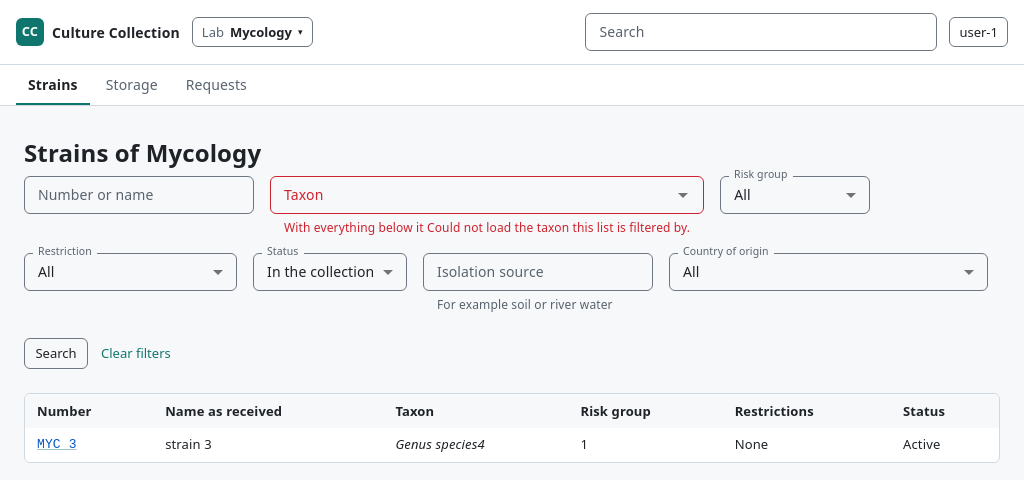
Test: the strains page › says when the taxa could not be searched, and when the taxon of the filter could not be loaded
Check: the text "Could not load the taxon this list is filtered by" is shown, box [284,218,690,236]
Step 1. Type "Tes" into the dropdown labelled "Taxon" → (471, 195), box [276,182,665,208]
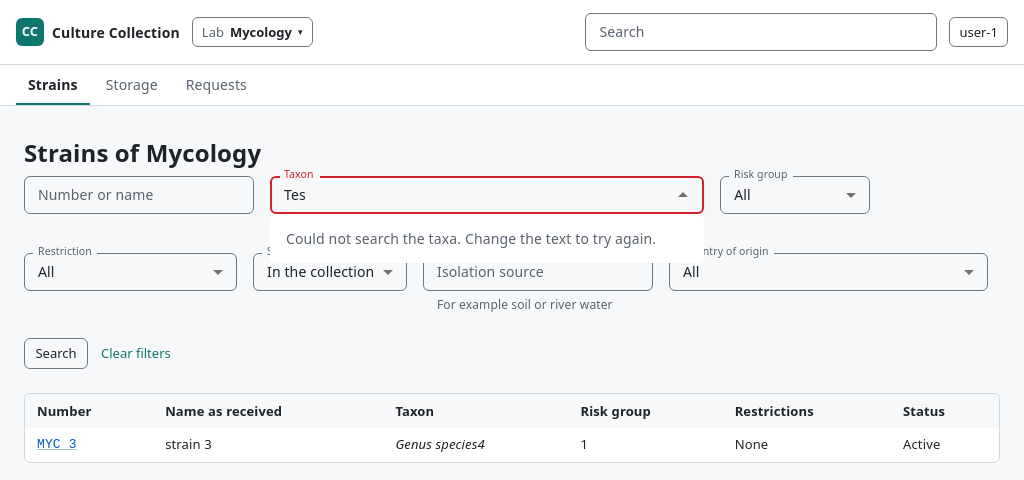
Check: the text "Could not search the taxa. Change the text to try again." is shown, box [286,229,656,248]
